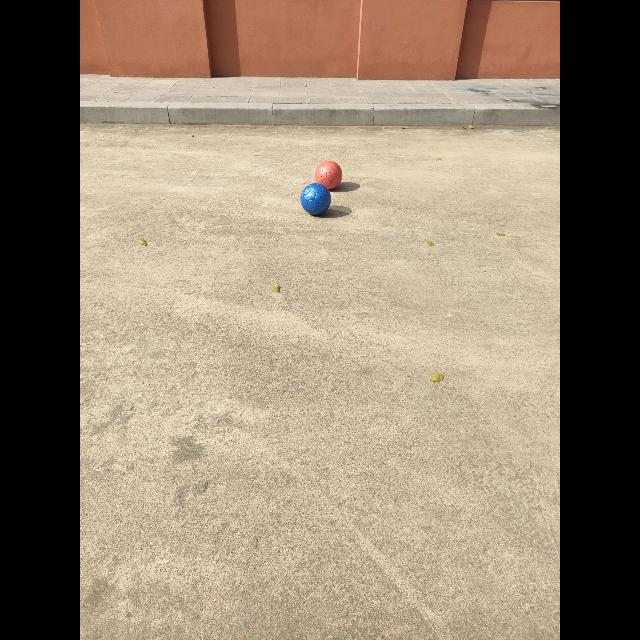B: (300, 182, 331, 215)
R: (315, 161, 342, 190)
